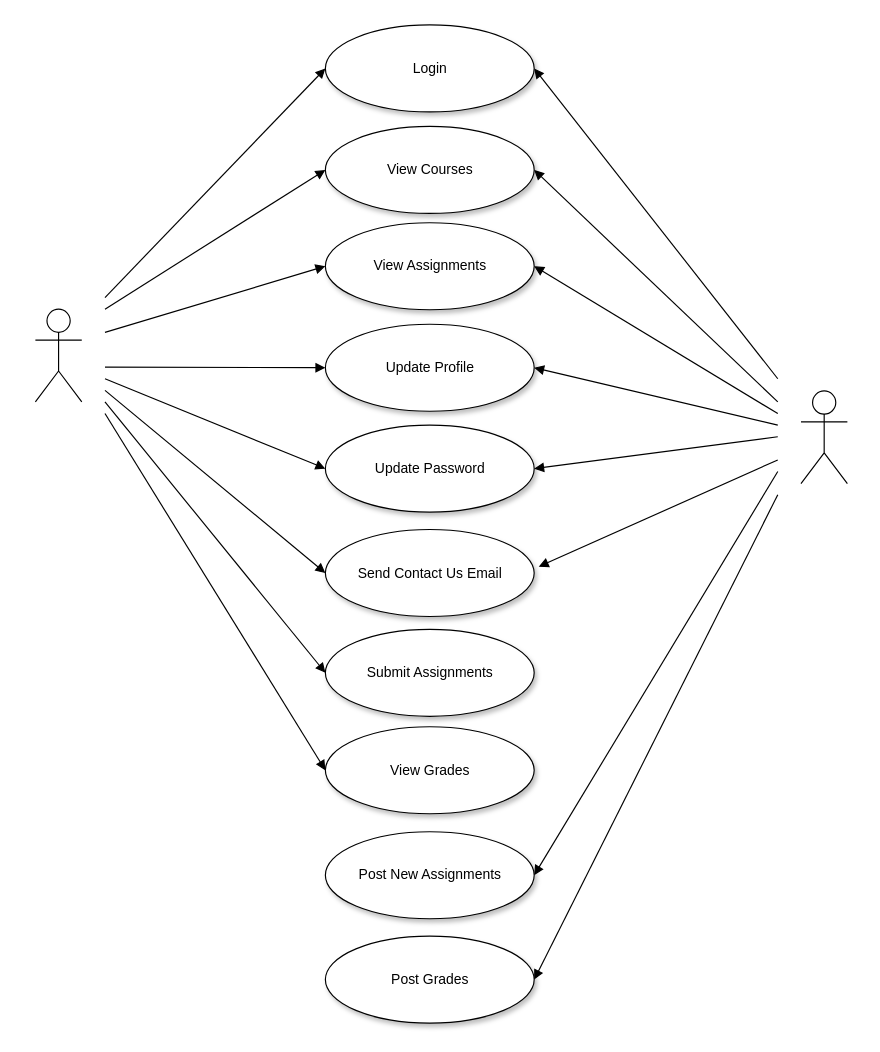
This 880x1052 diagram has some shape labels left out. Here are the shapes that lost their labels. From the top down, the centre of each, then its label:
At [58,355]: "Student".
At [823,437]: "Faculty".
